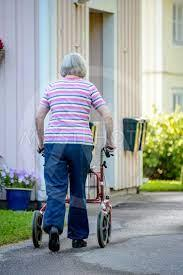walking_frame: (32, 53, 116, 251)
